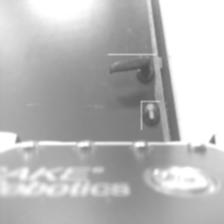Door Handle: (108, 54, 156, 87)
Lock: (141, 101, 160, 130)
